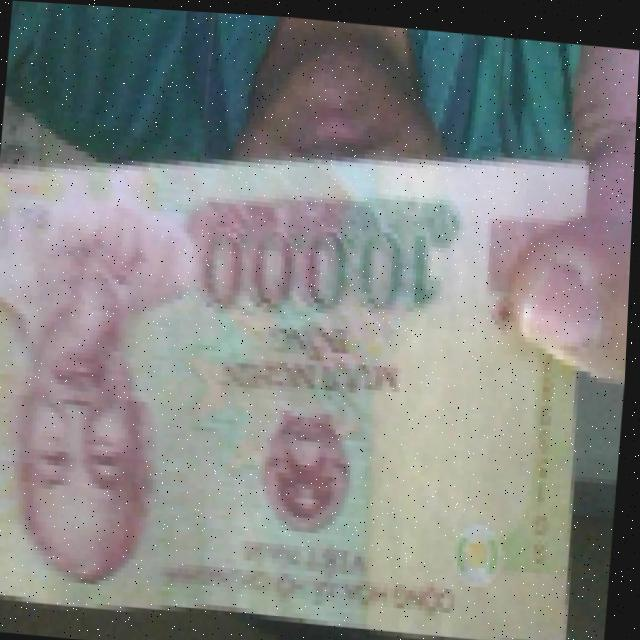10 000 VND: (0, 108, 611, 640)
